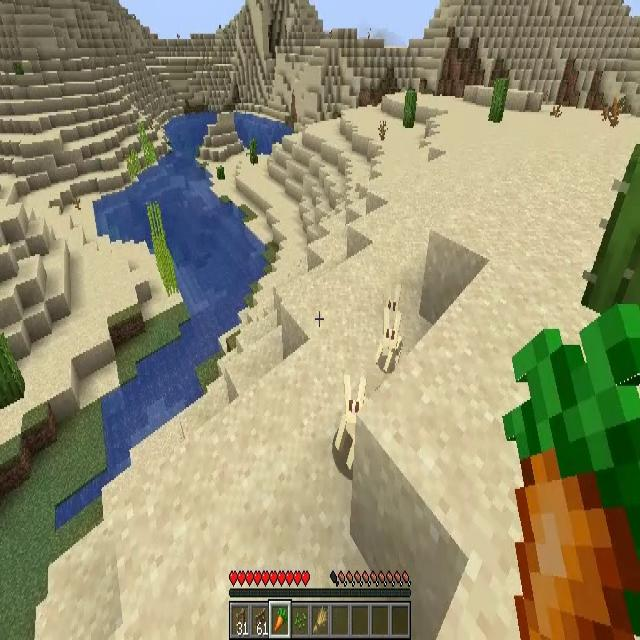rabbit: (335, 375, 366, 470), (384, 284, 406, 344), (378, 310, 400, 366)
